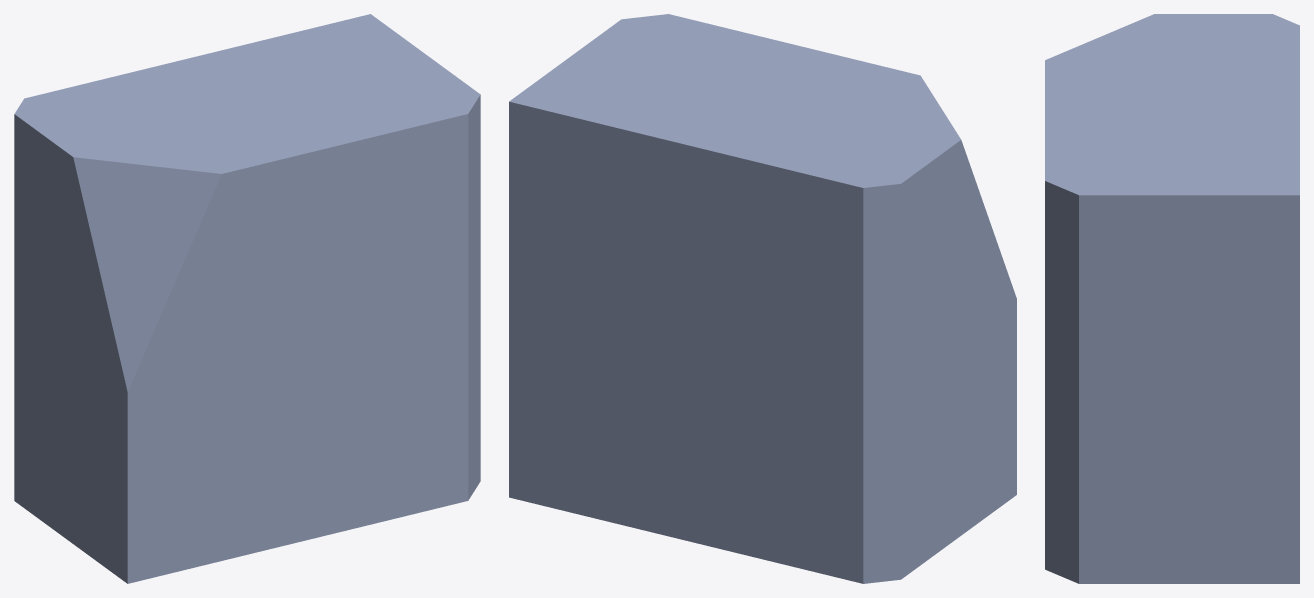
The model's file is Ore.fbx.
The picture shows the model from 3 angles, left to right: view 1: azimuth 30°, elevation 25°; view 2: azimuth 150°, elevation 25°; view 3: azimuth 270°, elevation 25°; orthographic projection. The views are drawn at different scales.
Visible parts, largest first — view 1: Cube; view 2: Cube; view 3: Cube.
Part boxes in pixels (x1=…): Cube: x1=14, y1=14, x2=480, y2=583; Cube: x1=509, y1=14, x2=1016, y2=583; Cube: x1=1045, y1=14, x2=1299, y2=583.
Size of the model in its own units: 2 by 1.19 by 2.
